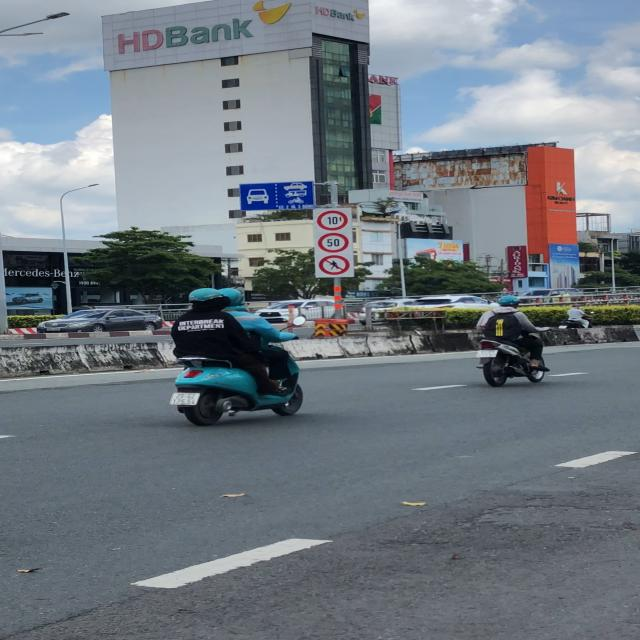Bien bao cam nguoi di bo: (317, 253, 354, 279)
Bien bao toc do toi da cho phep: (317, 230, 353, 253)
